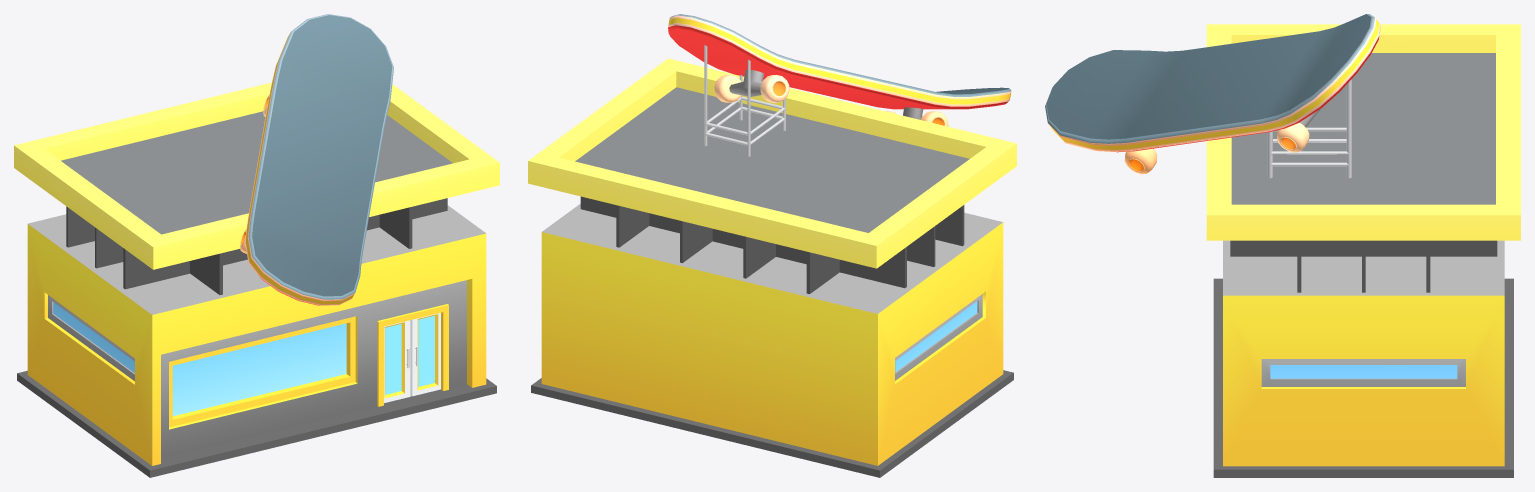
Rendered from city2-building-service-03.glb.
The picture shows the model from 3 angles, left to right: view 1: azimuth 30°, elevation 25°; view 2: azimuth 150°, elevation 25°; view 3: azimuth 270°, elevation 25°; orthographic projection. The views are drawn at different scales.
Parts seen in each view (by area): view 1: Building_Service_03; view 2: Building_Service_03; view 3: Building_Service_03.
Part boxes in pixels (x1,y1,x2,y2): Building_Service_03: [14, 14, 499, 477]; Building_Service_03: [528, 14, 1016, 477]; Building_Service_03: [1045, 14, 1520, 477].
Size of the model in its own units: 9.86 by 9.56 by 10.39.
1 material, 1 textured.
